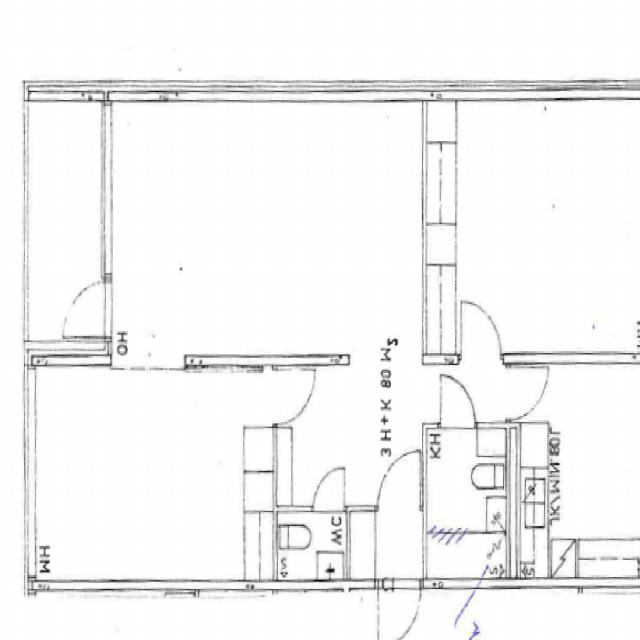door: (61, 282, 112, 338), (377, 445, 420, 510), (379, 579, 421, 640), (462, 301, 501, 365), (273, 370, 315, 423), (506, 368, 548, 419), (440, 374, 474, 429), (313, 463, 344, 510)
